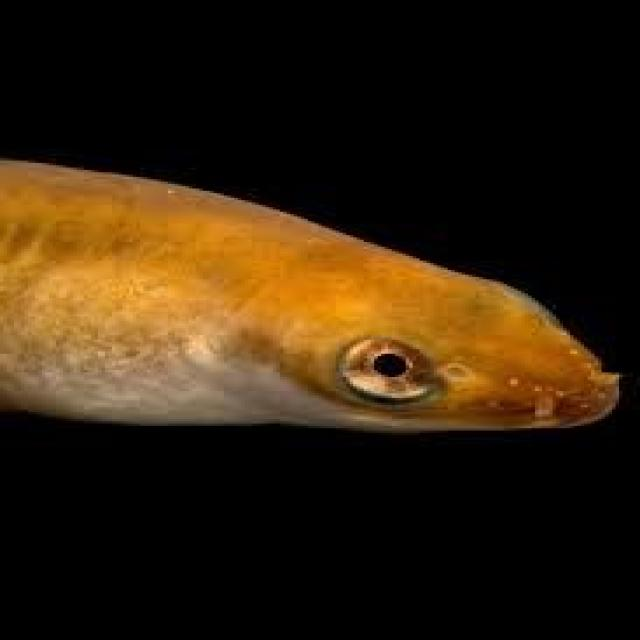Freshwater-Eel: (0, 151, 640, 467)
